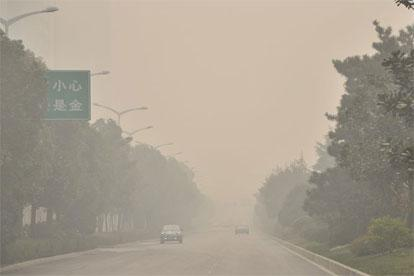car: (160, 224, 184, 244), (235, 223, 250, 235)
